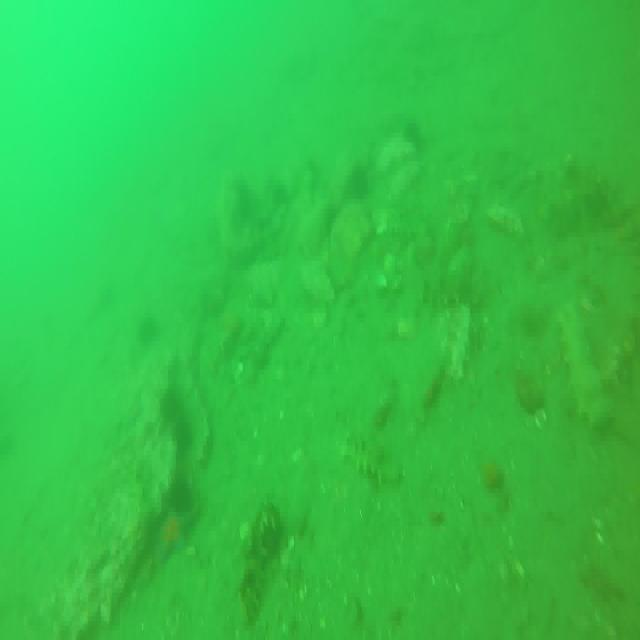echinus: (168, 470, 193, 513), (137, 316, 162, 351)
holothurian: (557, 303, 611, 431), (339, 431, 401, 486), (416, 267, 482, 311)
starfish: (151, 505, 194, 569)
